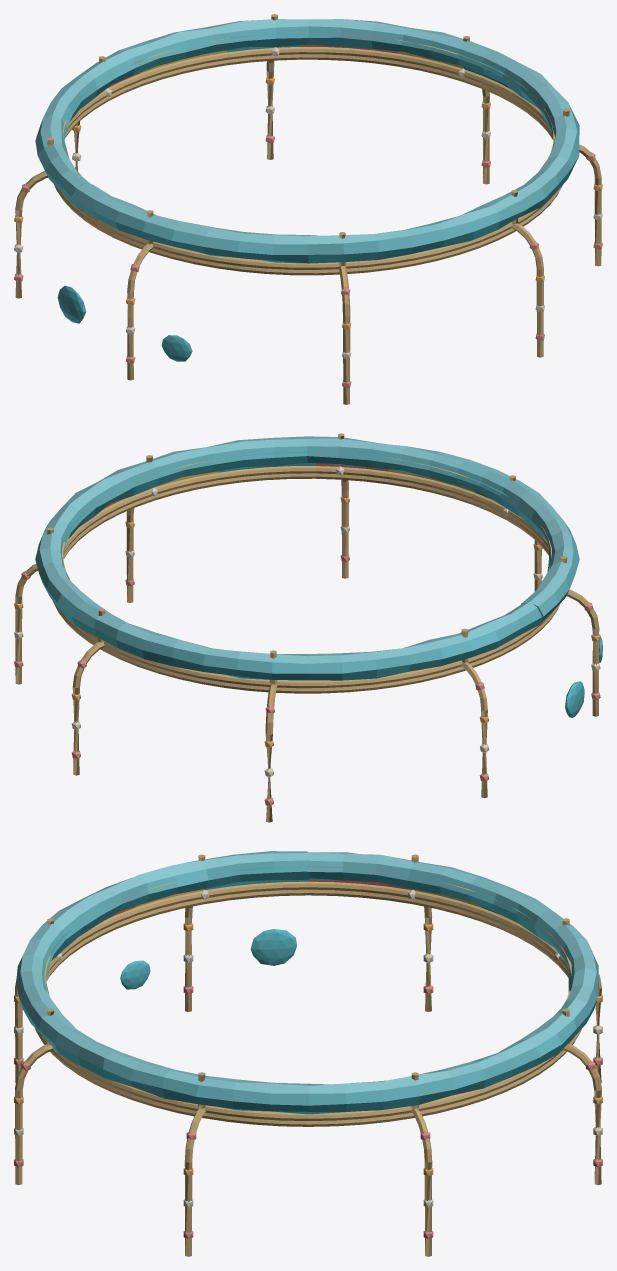
The model's file is goo_jar_trim_2_mid@beach.fbx.
The picture shows the model from 3 angles, top to bottom: view 1: azimuth 30°, elevation 25°; view 2: azimuth 150°, elevation 25°; view 3: azimuth 270°, elevation 25°; orthographic projection. The views are drawn at different scales.
Visible parts, largest first — view 1: goo_jar_trim_2_mid; view 2: goo_jar_trim_2_mid; view 3: goo_jar_trim_2_mid.
Boxes of the visible parts, <box> form: goo_jar_trim_2_mid: <box>14,14,602,404</box>; goo_jar_trim_2_mid: <box>14,433,602,822</box>; goo_jar_trim_2_mid: <box>14,851,602,1256</box>.
Size of the model in its own units: 53.19 by 16.05 by 51.07.
